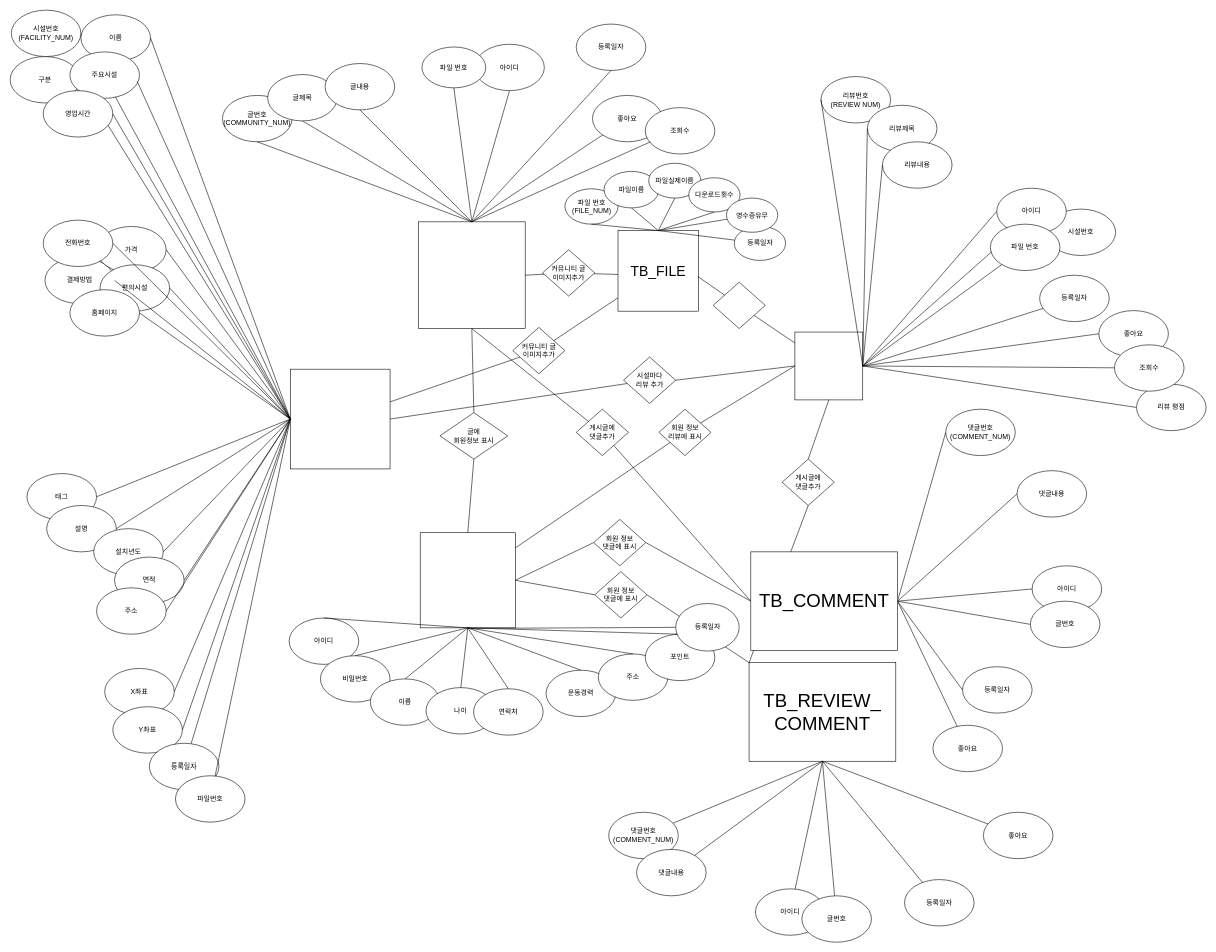
The diagram is 1216 pixels wide and 952 high, and some of its shapes have lost their labels. The centre of each missing label's shape, as x and y in pixels:
TB_COMMUNITY: pixel 471 275
TB_FACILITY: pixel 340 419
TB_MEMBER: pixel 467 580
TB_REVIEW: pixel 828 365
리뷰 글에 이미지추가: pixel 739 305
